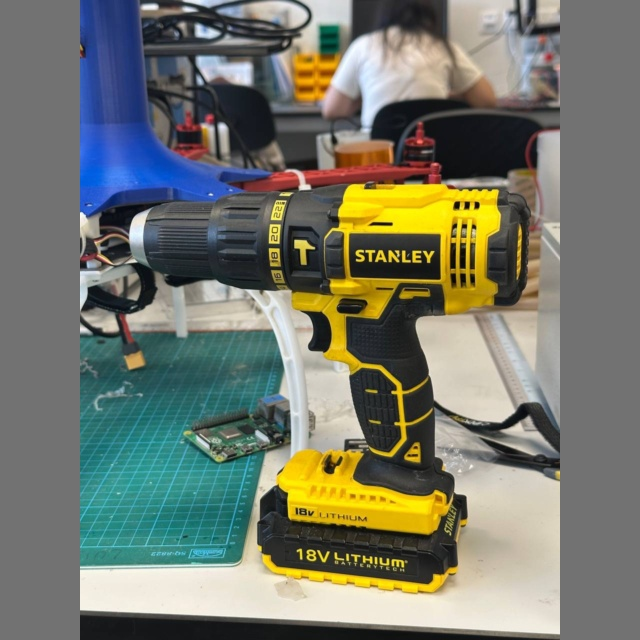drill: (130, 184, 530, 592)
